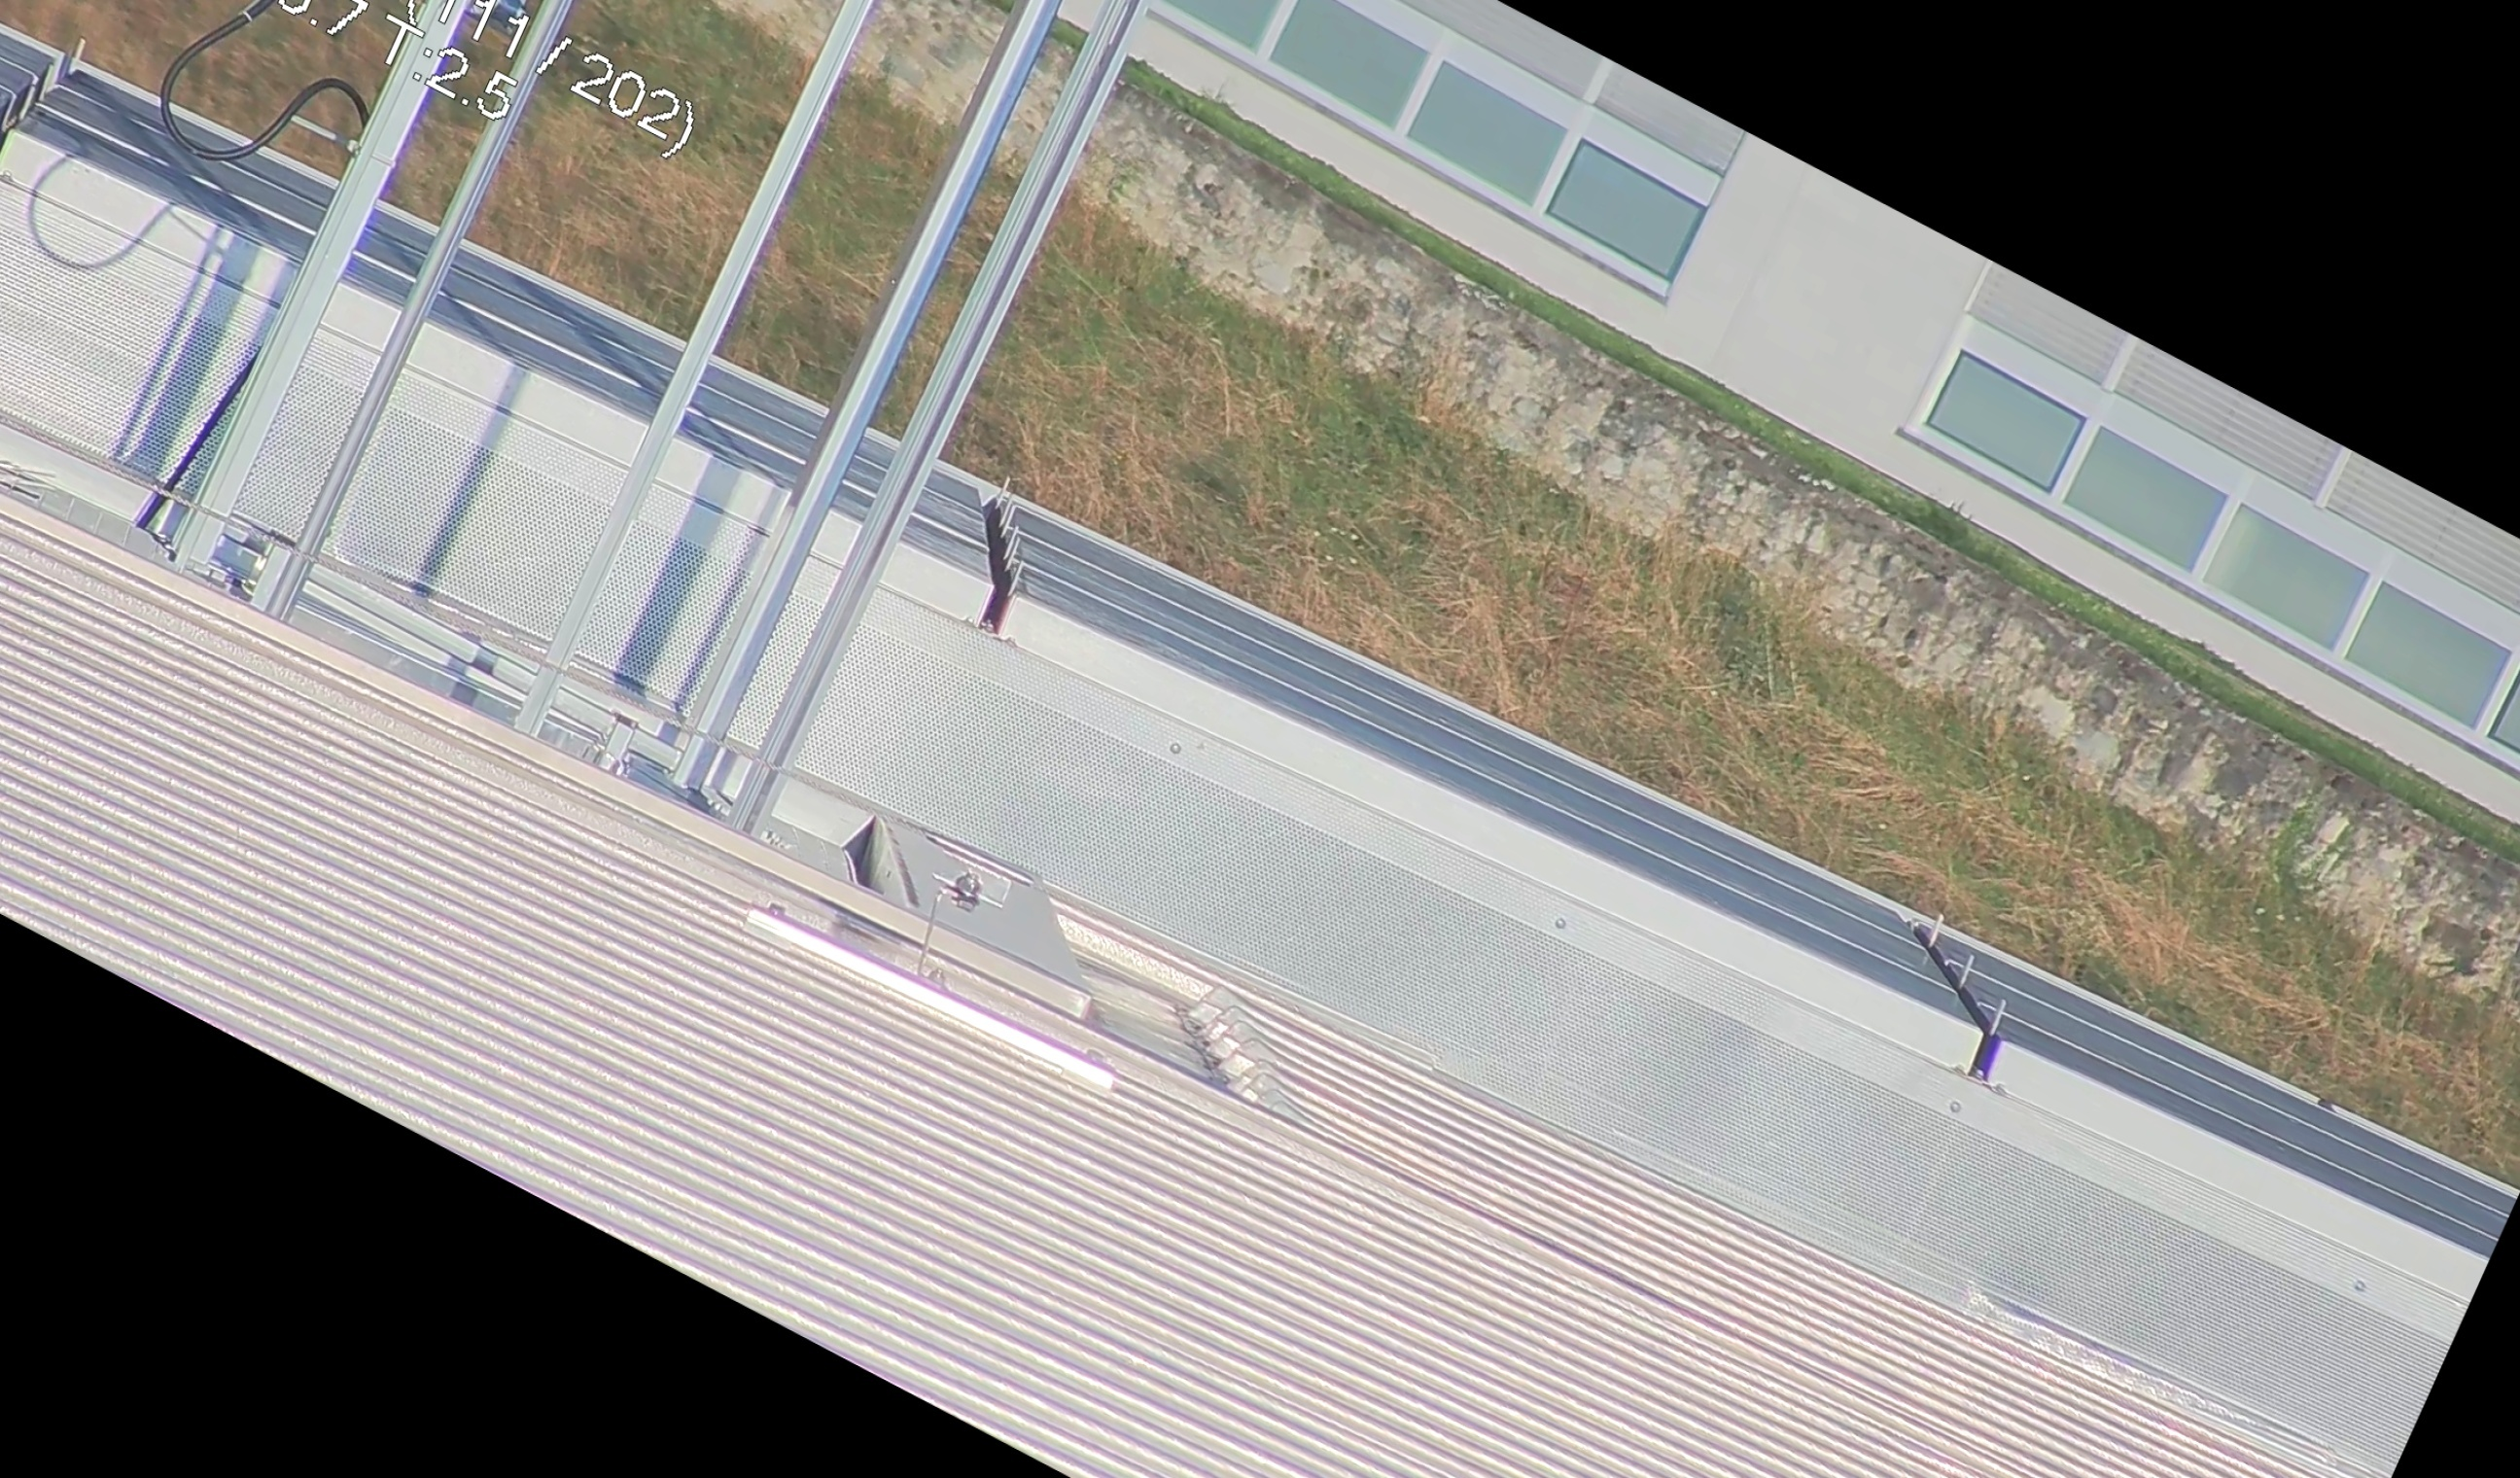Other: (909, 454, 1080, 658)
